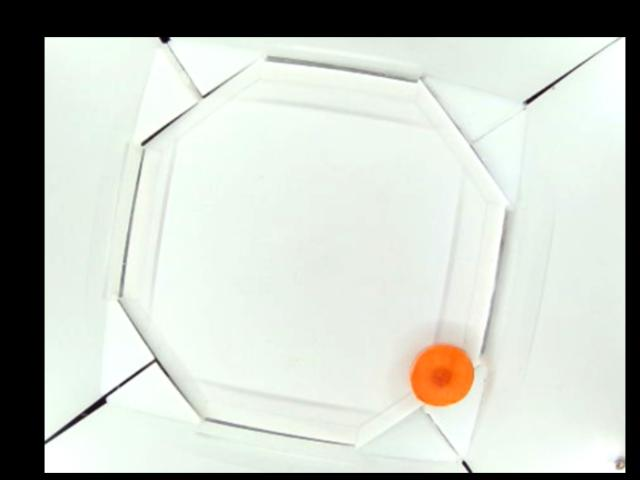Carrot: (409, 343, 473, 406)
